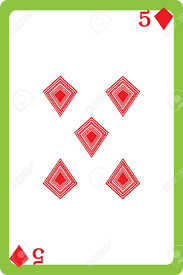five of dimaonds: (7, 10, 172, 268)
